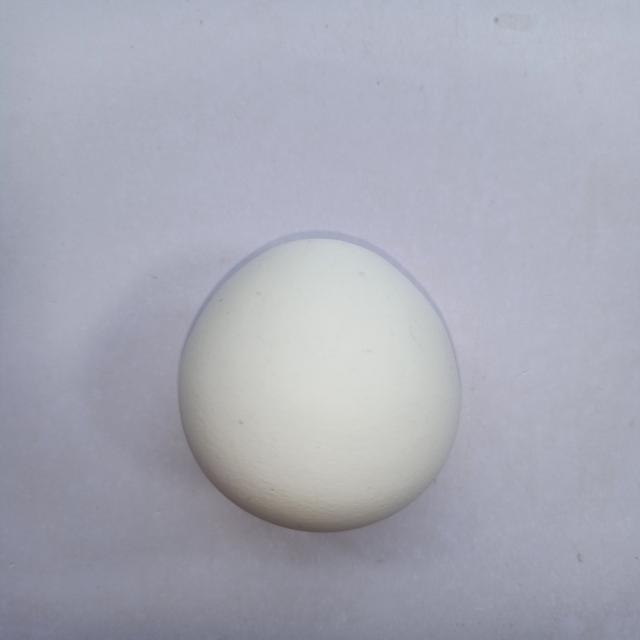Egg: (172, 221, 478, 570)
